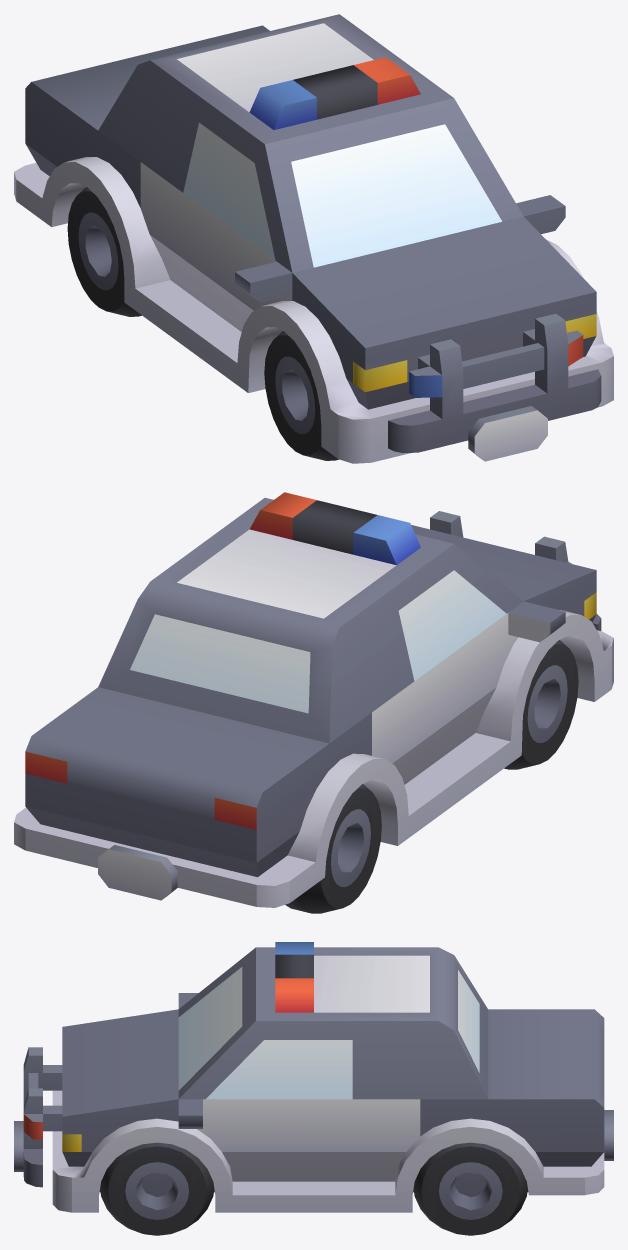
File: traffic_police.glb
3 views of the same model, one above another, from view 1: azimuth 30°, elevation 25°; view 2: azimuth 150°, elevation 25°; view 3: azimuth 270°, elevation 25° (orthographic). The views are drawn at different scales.
Parts seen in each view (by area): view 1: wheel-back-left; view 2: wheel-back-left; view 3: wheel-back-left.
Boxes of the visible parts, <box> form: wheel-back-left: <box>14,14,613,463</box>; wheel-back-left: <box>14,492,613,913</box>; wheel-back-left: <box>14,942,613,1235</box>.
Bounding box in the file's own units: 1.5 × 1.3 × 3.1.
Materials: 1 (1 with a texture image).
